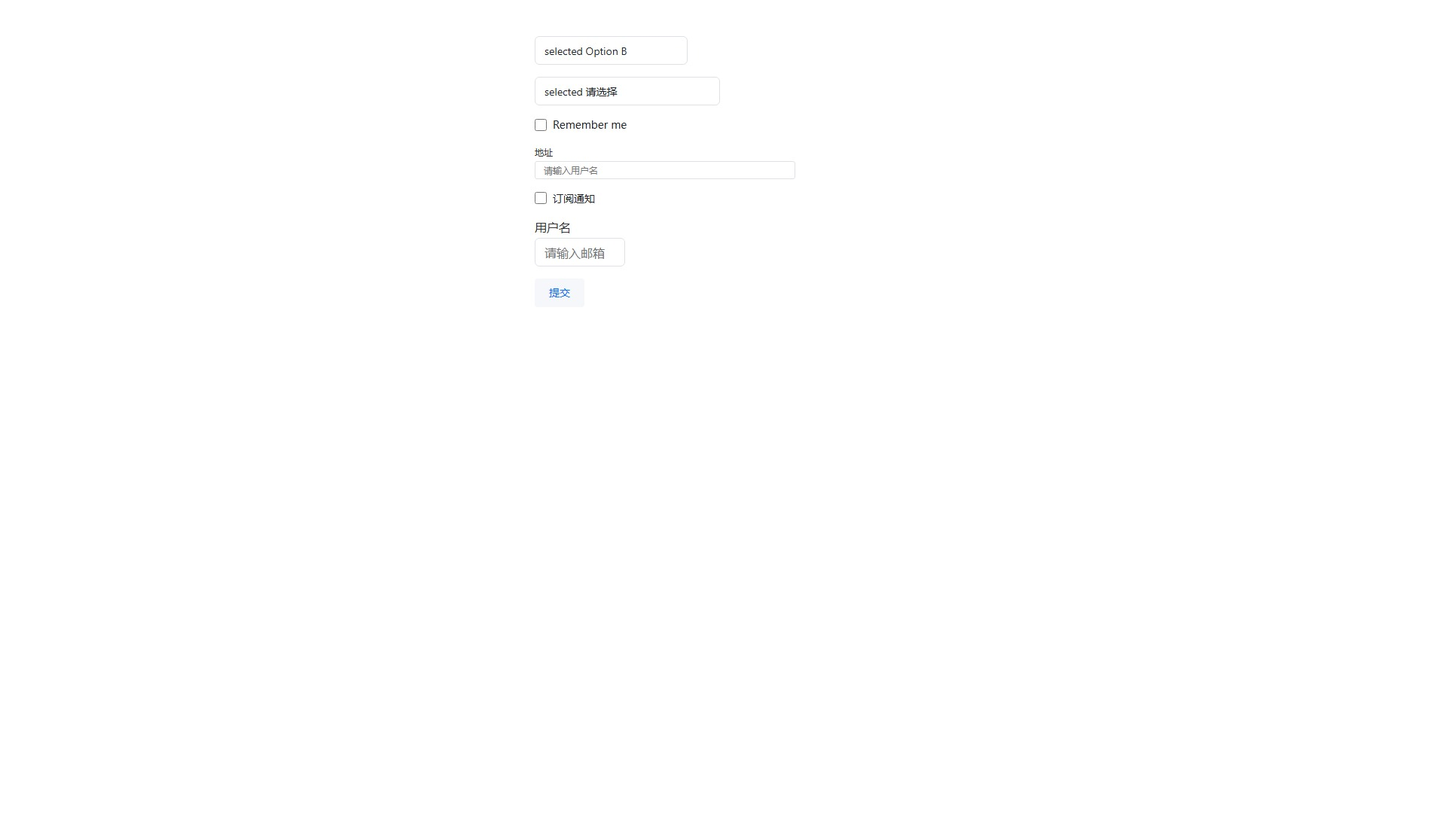button: (535, 279, 584, 307)
checkbox: (535, 119, 547, 131), (535, 192, 547, 204)
icon: (553, 117, 627, 132), (553, 191, 595, 205)
input: (535, 161, 795, 179), (535, 238, 625, 266)
radio: (535, 117, 627, 132), (535, 191, 595, 205)
select: (535, 77, 720, 105), (535, 36, 688, 65)
